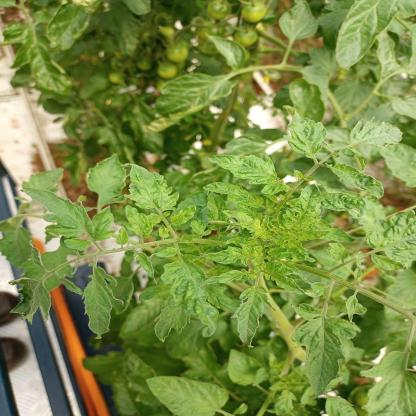T_L_H: (293, 305, 357, 396), (25, 189, 114, 242), (147, 378, 229, 416), (125, 165, 179, 215), (84, 268, 121, 340), (233, 287, 272, 348)
T_L_R: (161, 256, 219, 338), (211, 156, 289, 196), (368, 211, 416, 271), (285, 114, 327, 159), (331, 164, 385, 199), (9, 279, 51, 322), (351, 119, 403, 148), (205, 184, 264, 209), (126, 207, 161, 242), (323, 194, 367, 216), (207, 248, 249, 265)
T_S_R: (296, 265, 416, 320)
